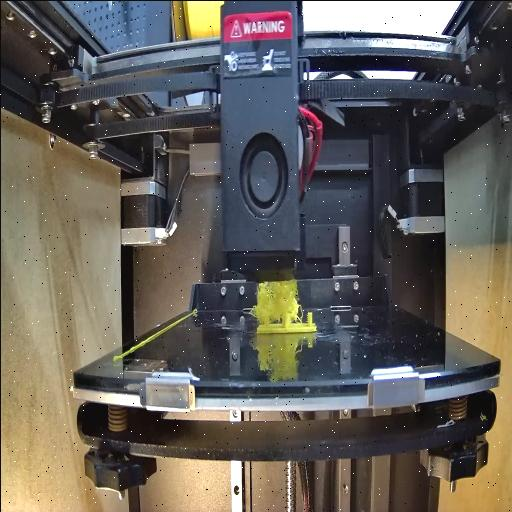spaghetti: (247, 272, 303, 322)
